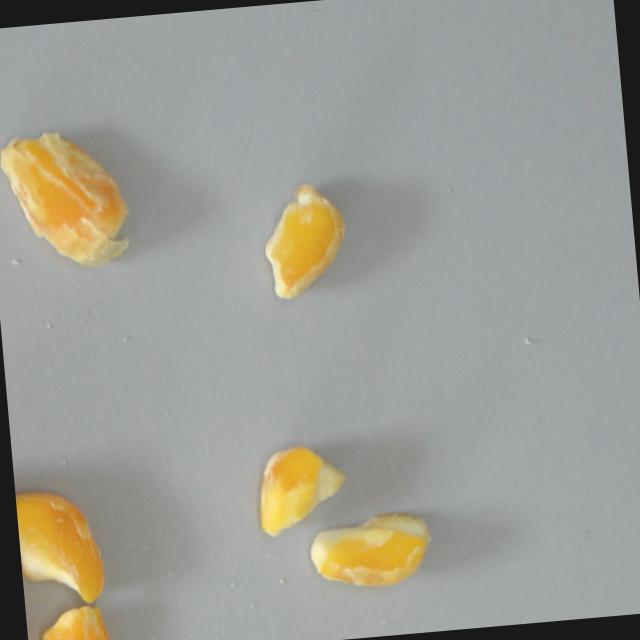dañado: (0, 118, 137, 279), (302, 505, 441, 599), (253, 178, 355, 306), (14, 483, 109, 612), (250, 436, 353, 542), (33, 598, 118, 640)
